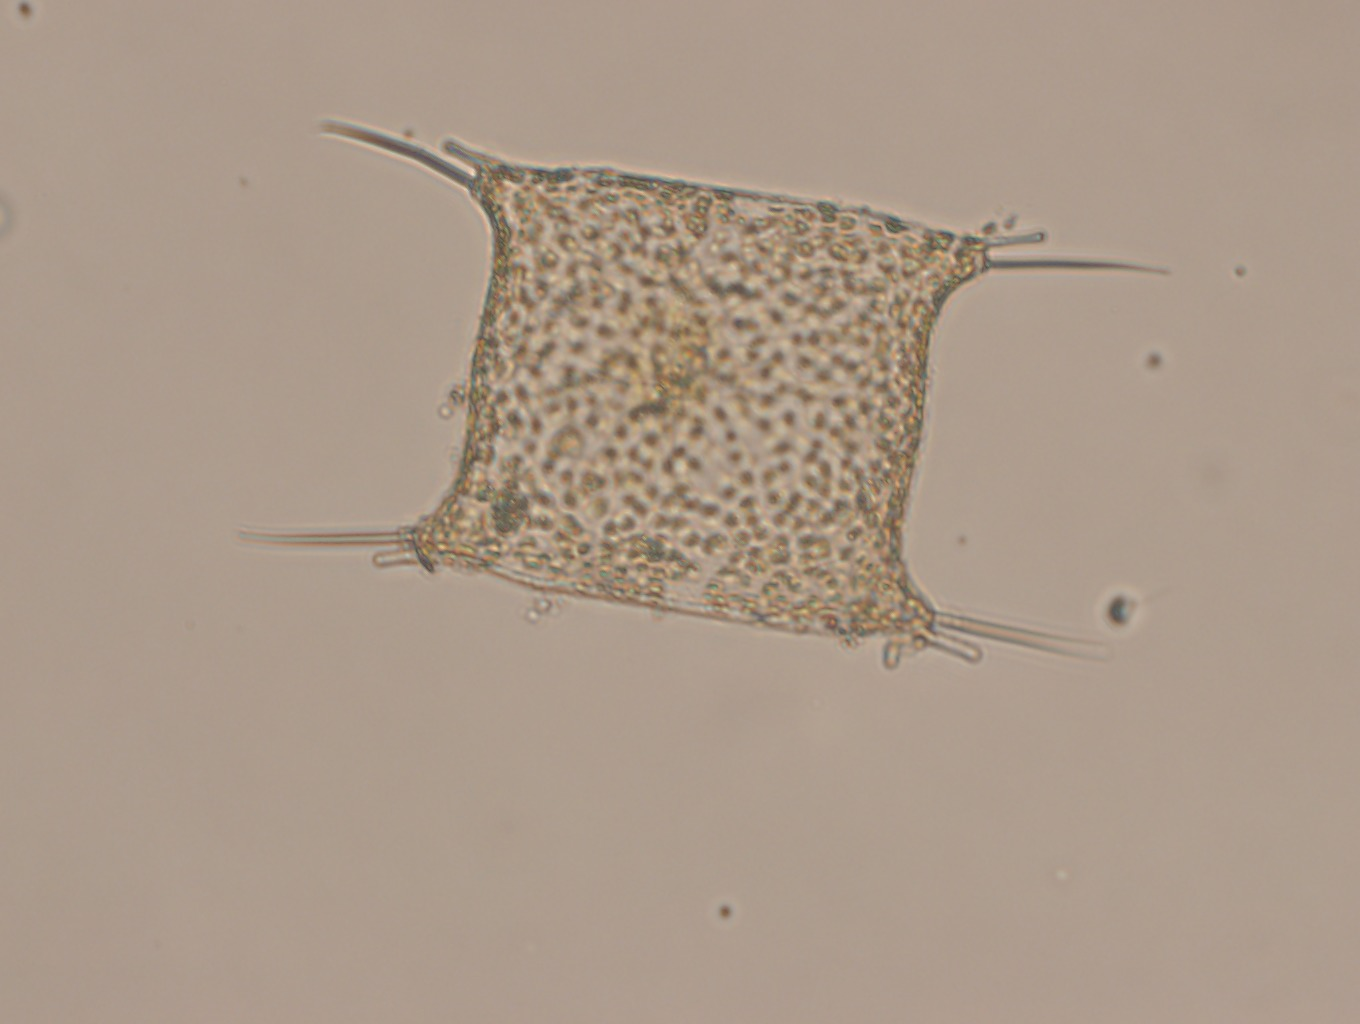biddulphia: (233, 114, 1168, 670)
